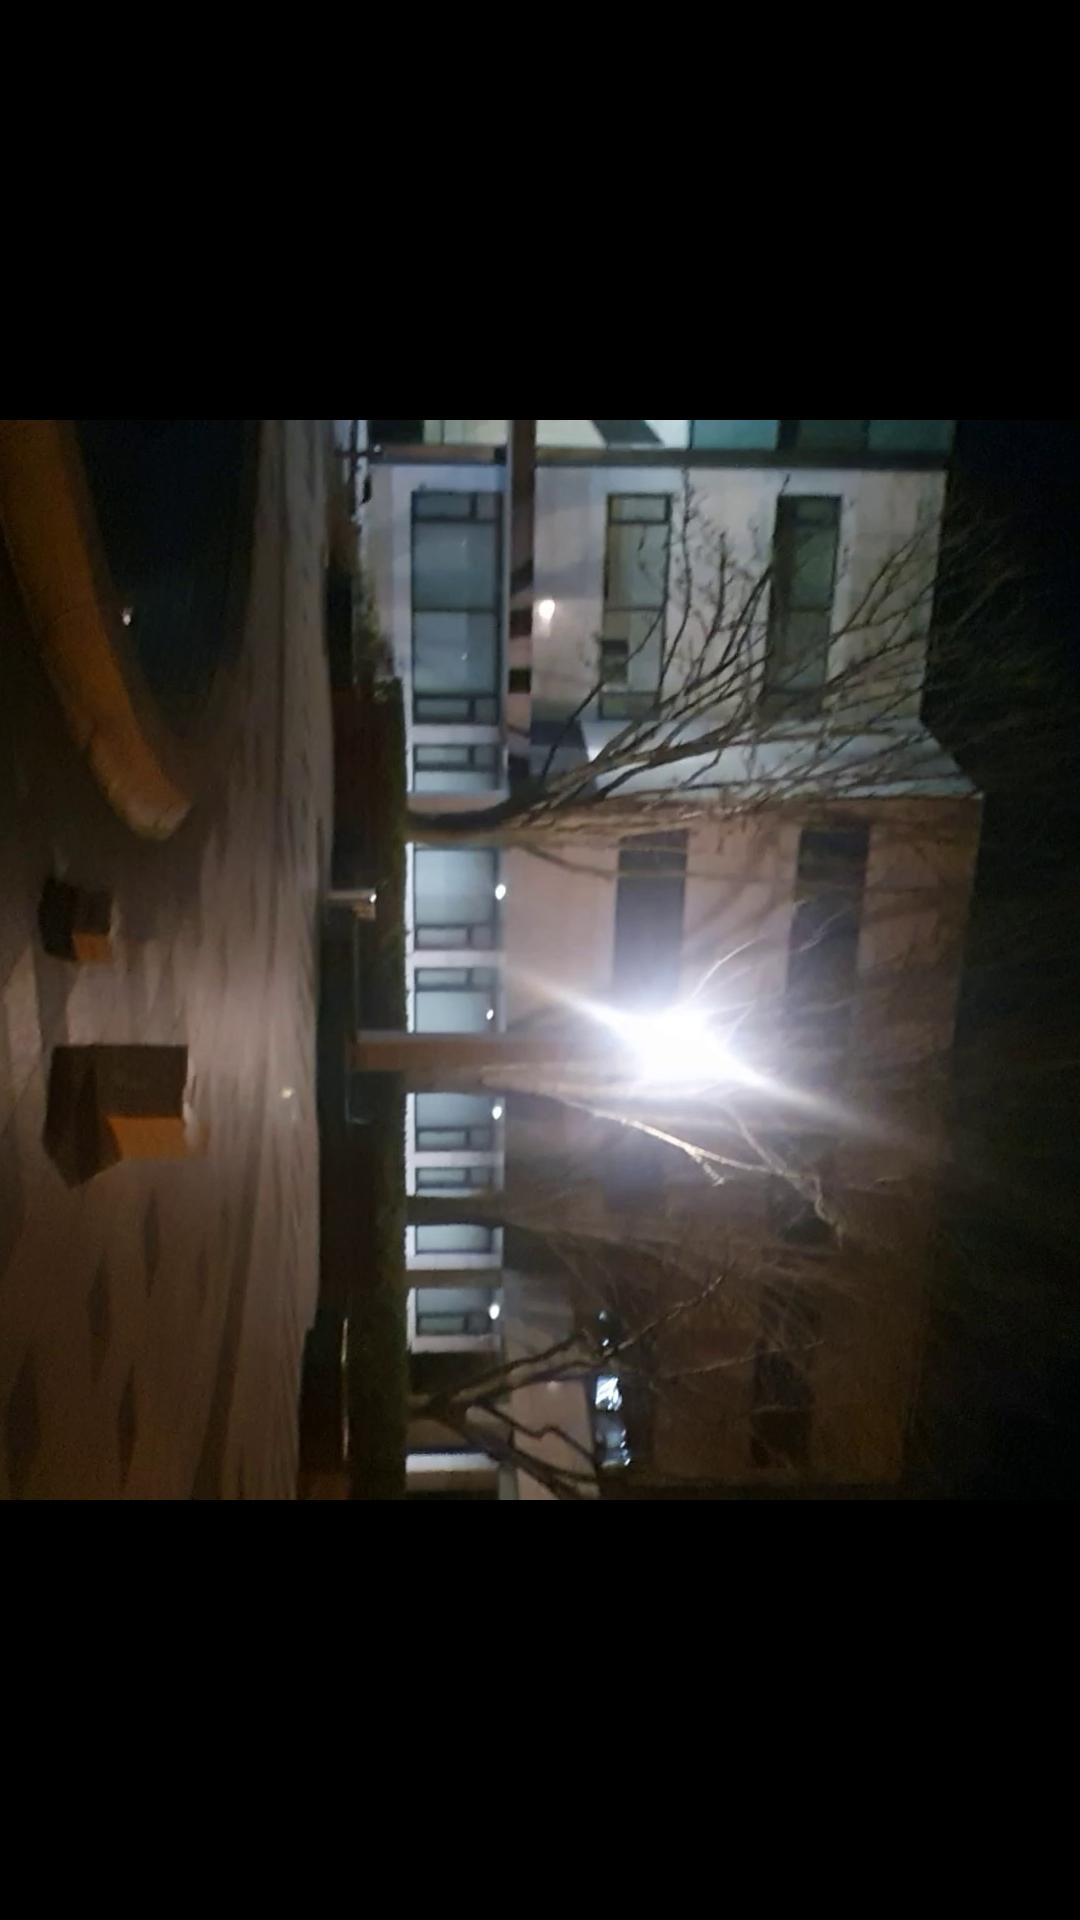Box: (73, 1018, 207, 1172), (44, 884, 145, 985)
